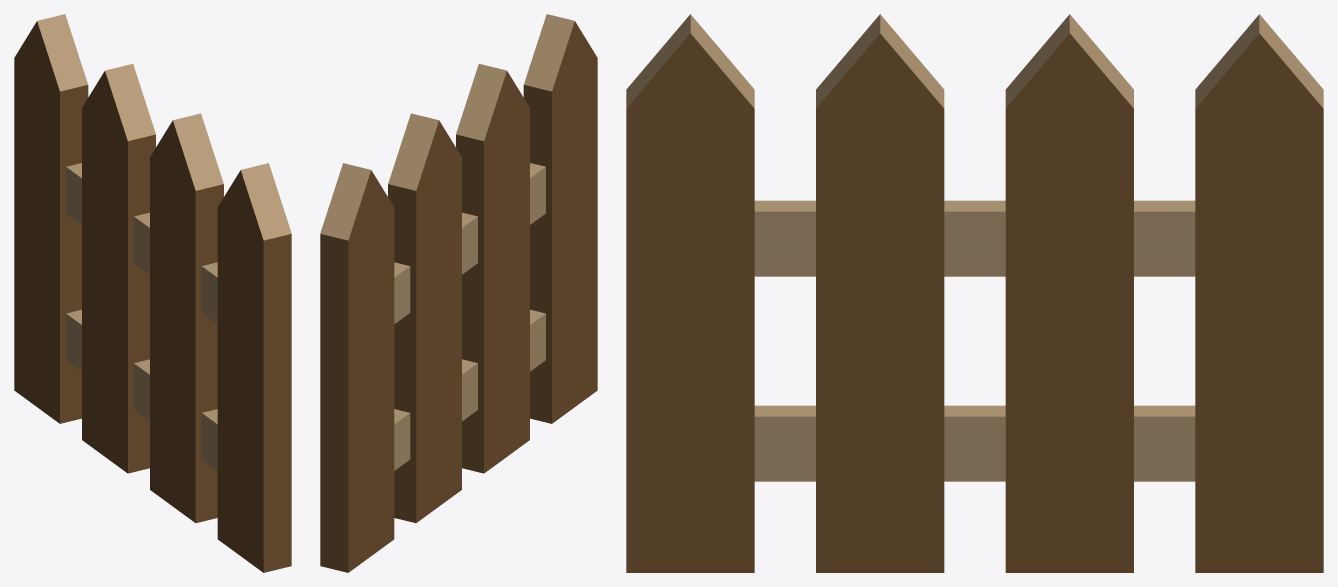
Rendered from SM_Fences_End.fbx.
3 views of the same model, side by side, from view 1: azimuth 30°, elevation 25°; view 2: azimuth 150°, elevation 25°; view 3: azimuth 270°, elevation 25° (orthographic). The views are drawn at different scales.
Parts seen in each view (by area): view 1: Fences_End; view 2: Fences_End; view 3: Fences_End.
Part boxes in pixels (x1=…): Fences_End: x1=14, y1=14, x2=291, y2=572; Fences_End: x1=320, y1=14, x2=597, y2=572; Fences_End: x1=626, y1=14, x2=1323, y2=572.
Bounding box in the file's own units: 14.39 × 188 × 221.
